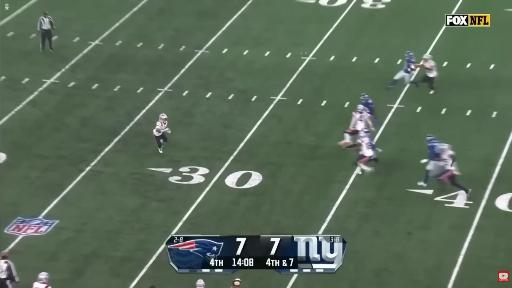Helmet: (434, 143, 450, 155), (37, 272, 49, 284), (425, 133, 436, 142), (359, 92, 367, 102), (158, 114, 168, 121), (356, 104, 363, 114), (404, 52, 413, 59), (363, 128, 372, 135), (424, 54, 432, 61), (359, 132, 365, 138)
Jersey: (426, 141, 443, 171), (441, 150, 460, 174), (350, 112, 371, 130), (358, 137, 375, 156), (441, 150, 456, 170), (428, 141, 440, 161), (423, 60, 437, 77), (361, 98, 374, 115), (402, 59, 415, 74), (154, 121, 167, 135), (33, 283, 51, 287)
Player: (436, 144, 470, 195), (339, 105, 374, 146), (346, 128, 378, 171), (418, 135, 442, 186), (388, 52, 418, 88), (418, 55, 438, 93), (154, 114, 170, 153), (360, 93, 376, 121), (33, 272, 51, 287)
